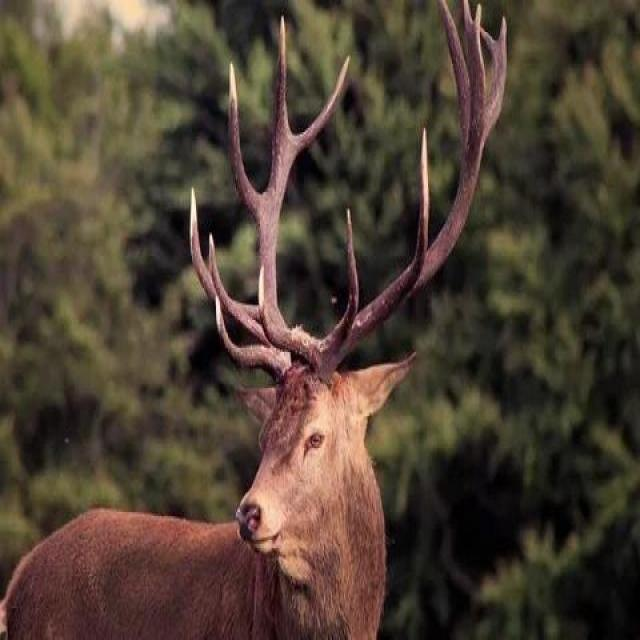deer: (122, 126, 480, 640)
